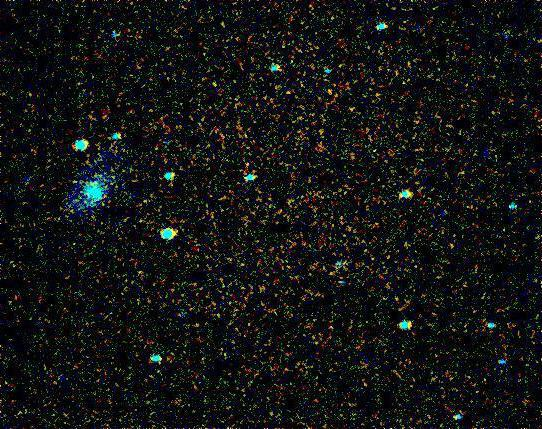star: (62, 165, 92, 195)
